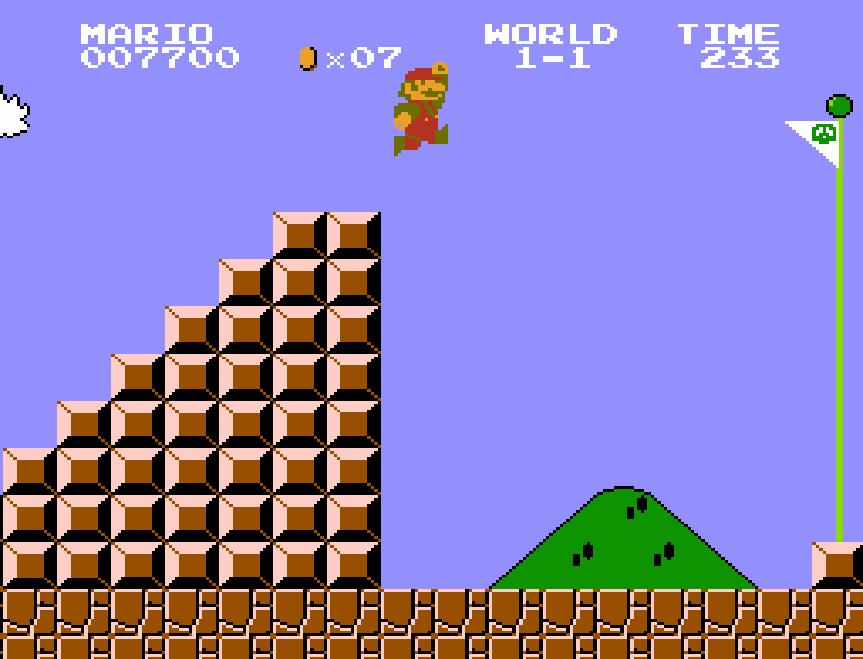big_mario: (392, 59, 450, 157)
